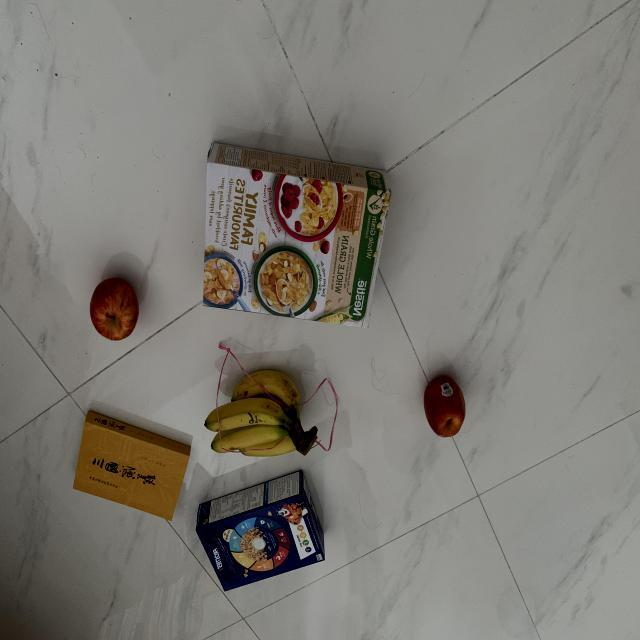apple: (412, 361, 492, 456), (83, 274, 146, 348)
banana: (203, 352, 344, 464)
